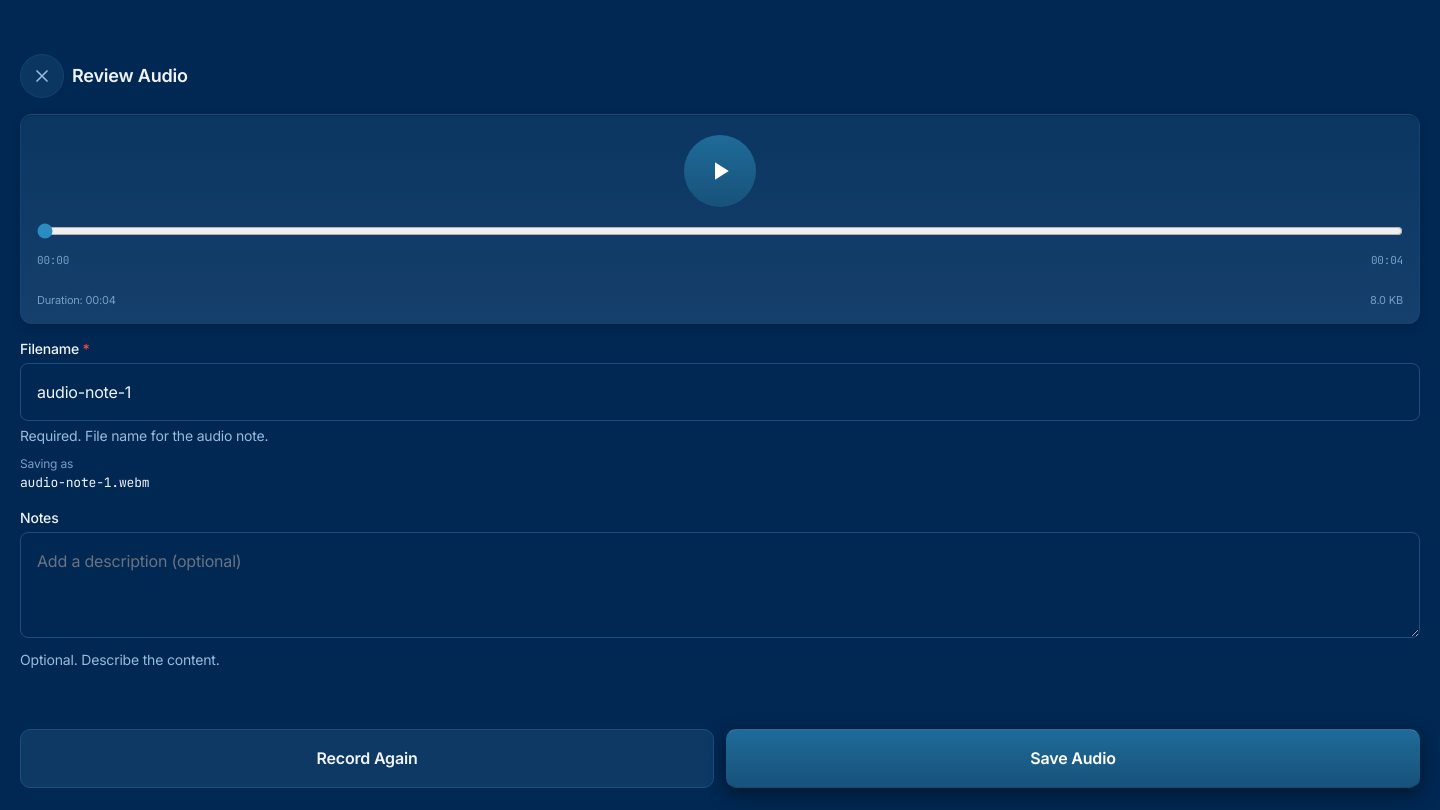
Test case: AudioPreviewScreen — playback › says so when the browser refuses to start playback
Click the button named "Play audio".
click(720, 171)  # box [684,135,756,207]
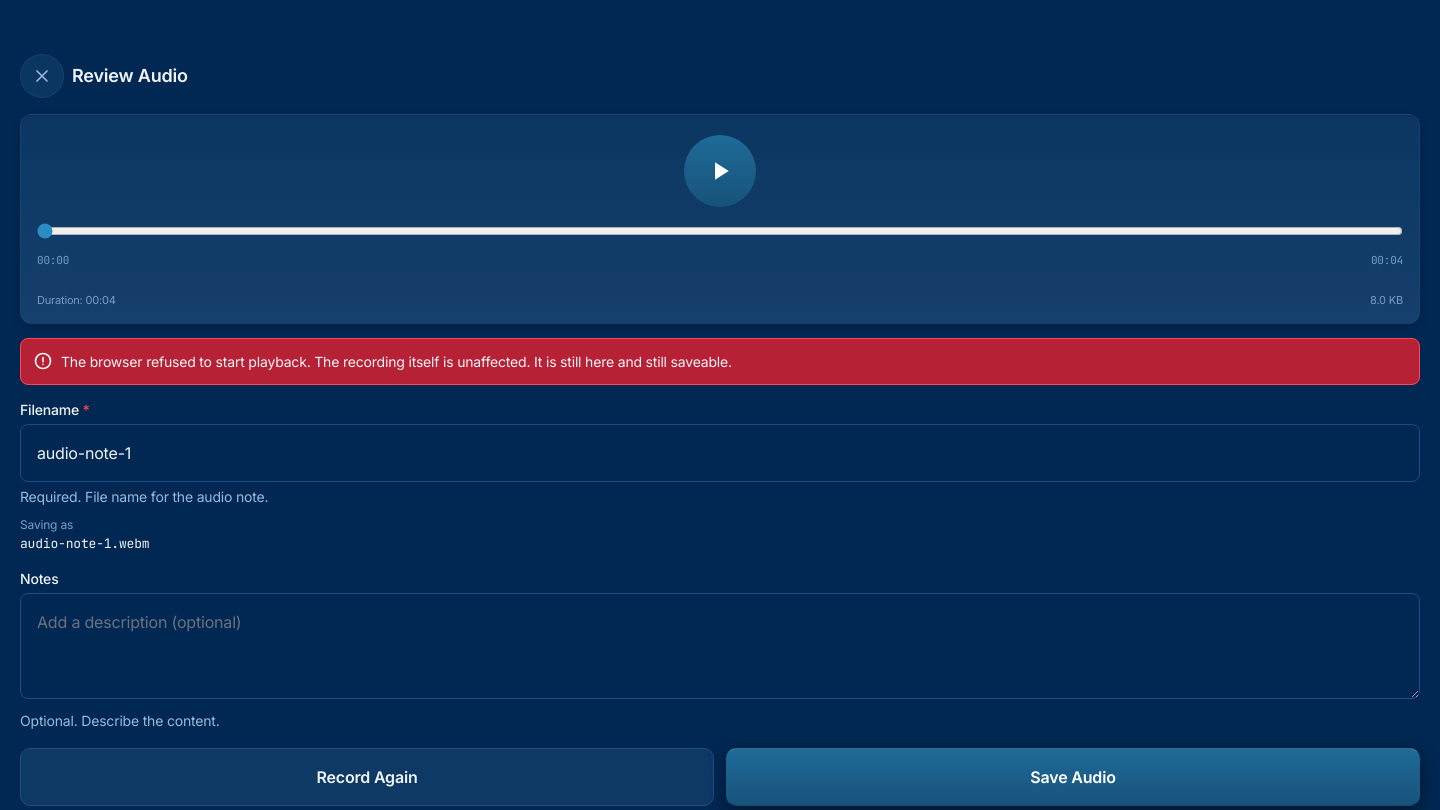
Check: the message shows "refused to start playback", box [61,353,732,370]
Check: the message shows "still saveable", box [61,353,732,370]
